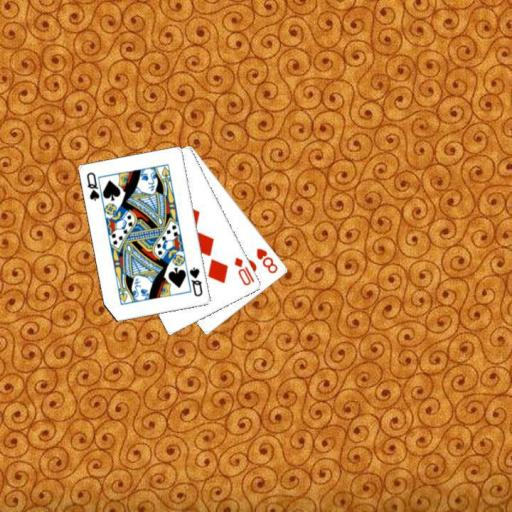10D: (232, 255, 256, 287)
8H: (253, 245, 280, 275)
QS: (186, 264, 204, 298), (83, 169, 101, 203)
